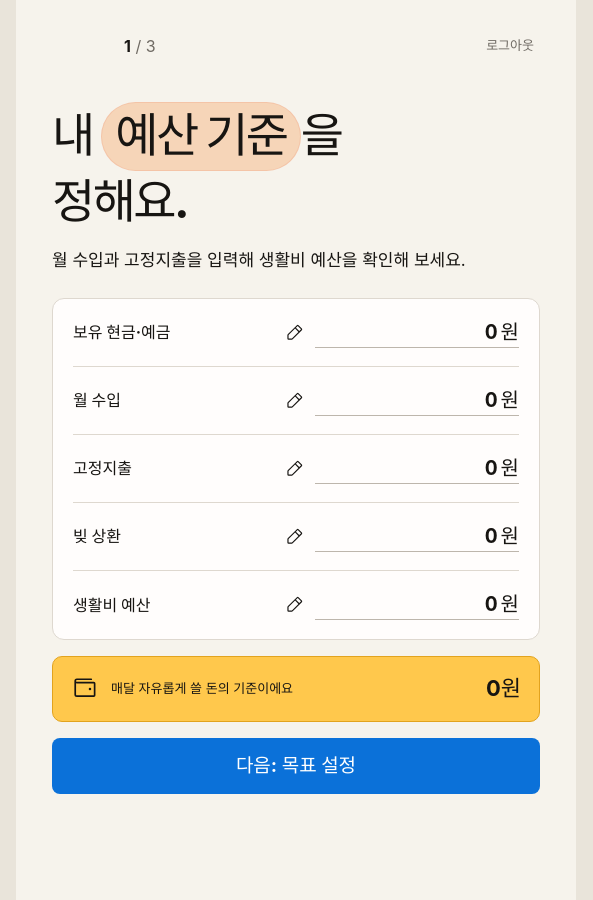
Test: App profile loading › shows a shortfall instead of hiding it when the entered budget exceeds income
Replace the text in the field named "월 수입 금액" with "100000" at (406, 400), box [315, 385, 498, 415]
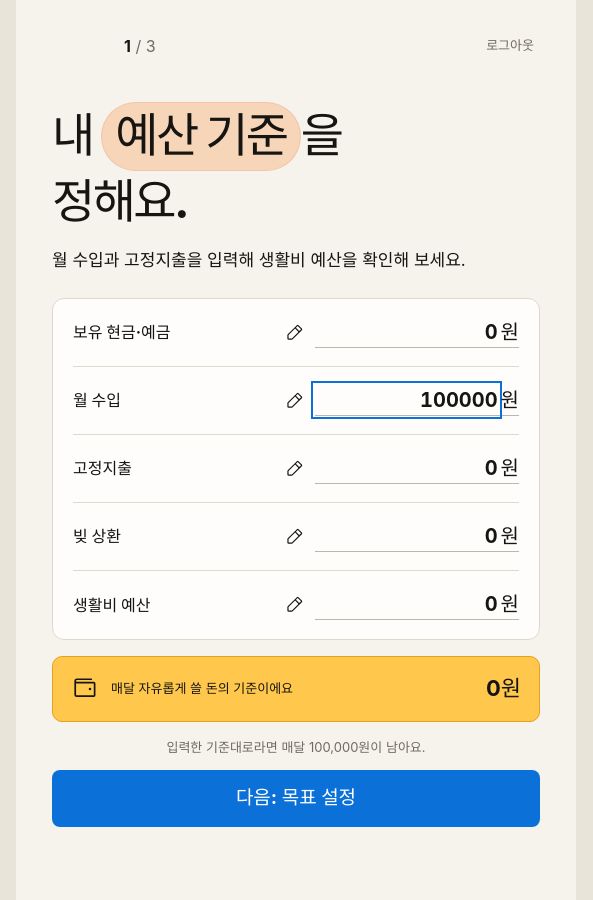
Replace the text in the field named "생활비 예산 금액" with "200000" at (406, 604), box [315, 589, 498, 619]
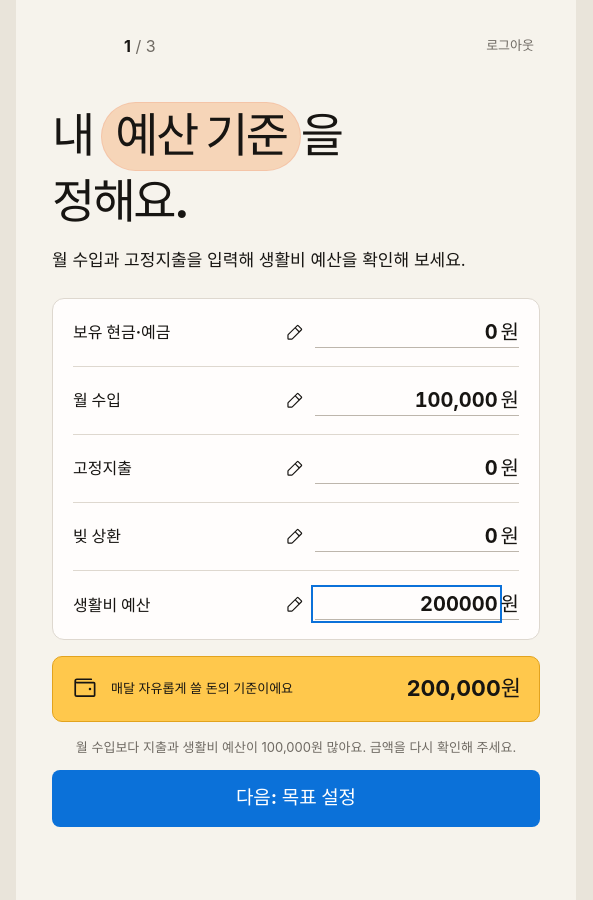
Expected: the text "월 수입보다 지출과 생활비 예산이 100,000원 많아요. 금액을 다시 확인해 주세요." is shown, [52, 738, 540, 757]
